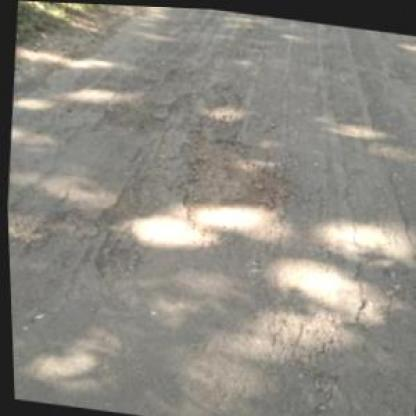pothole: (172, 122, 306, 248)
